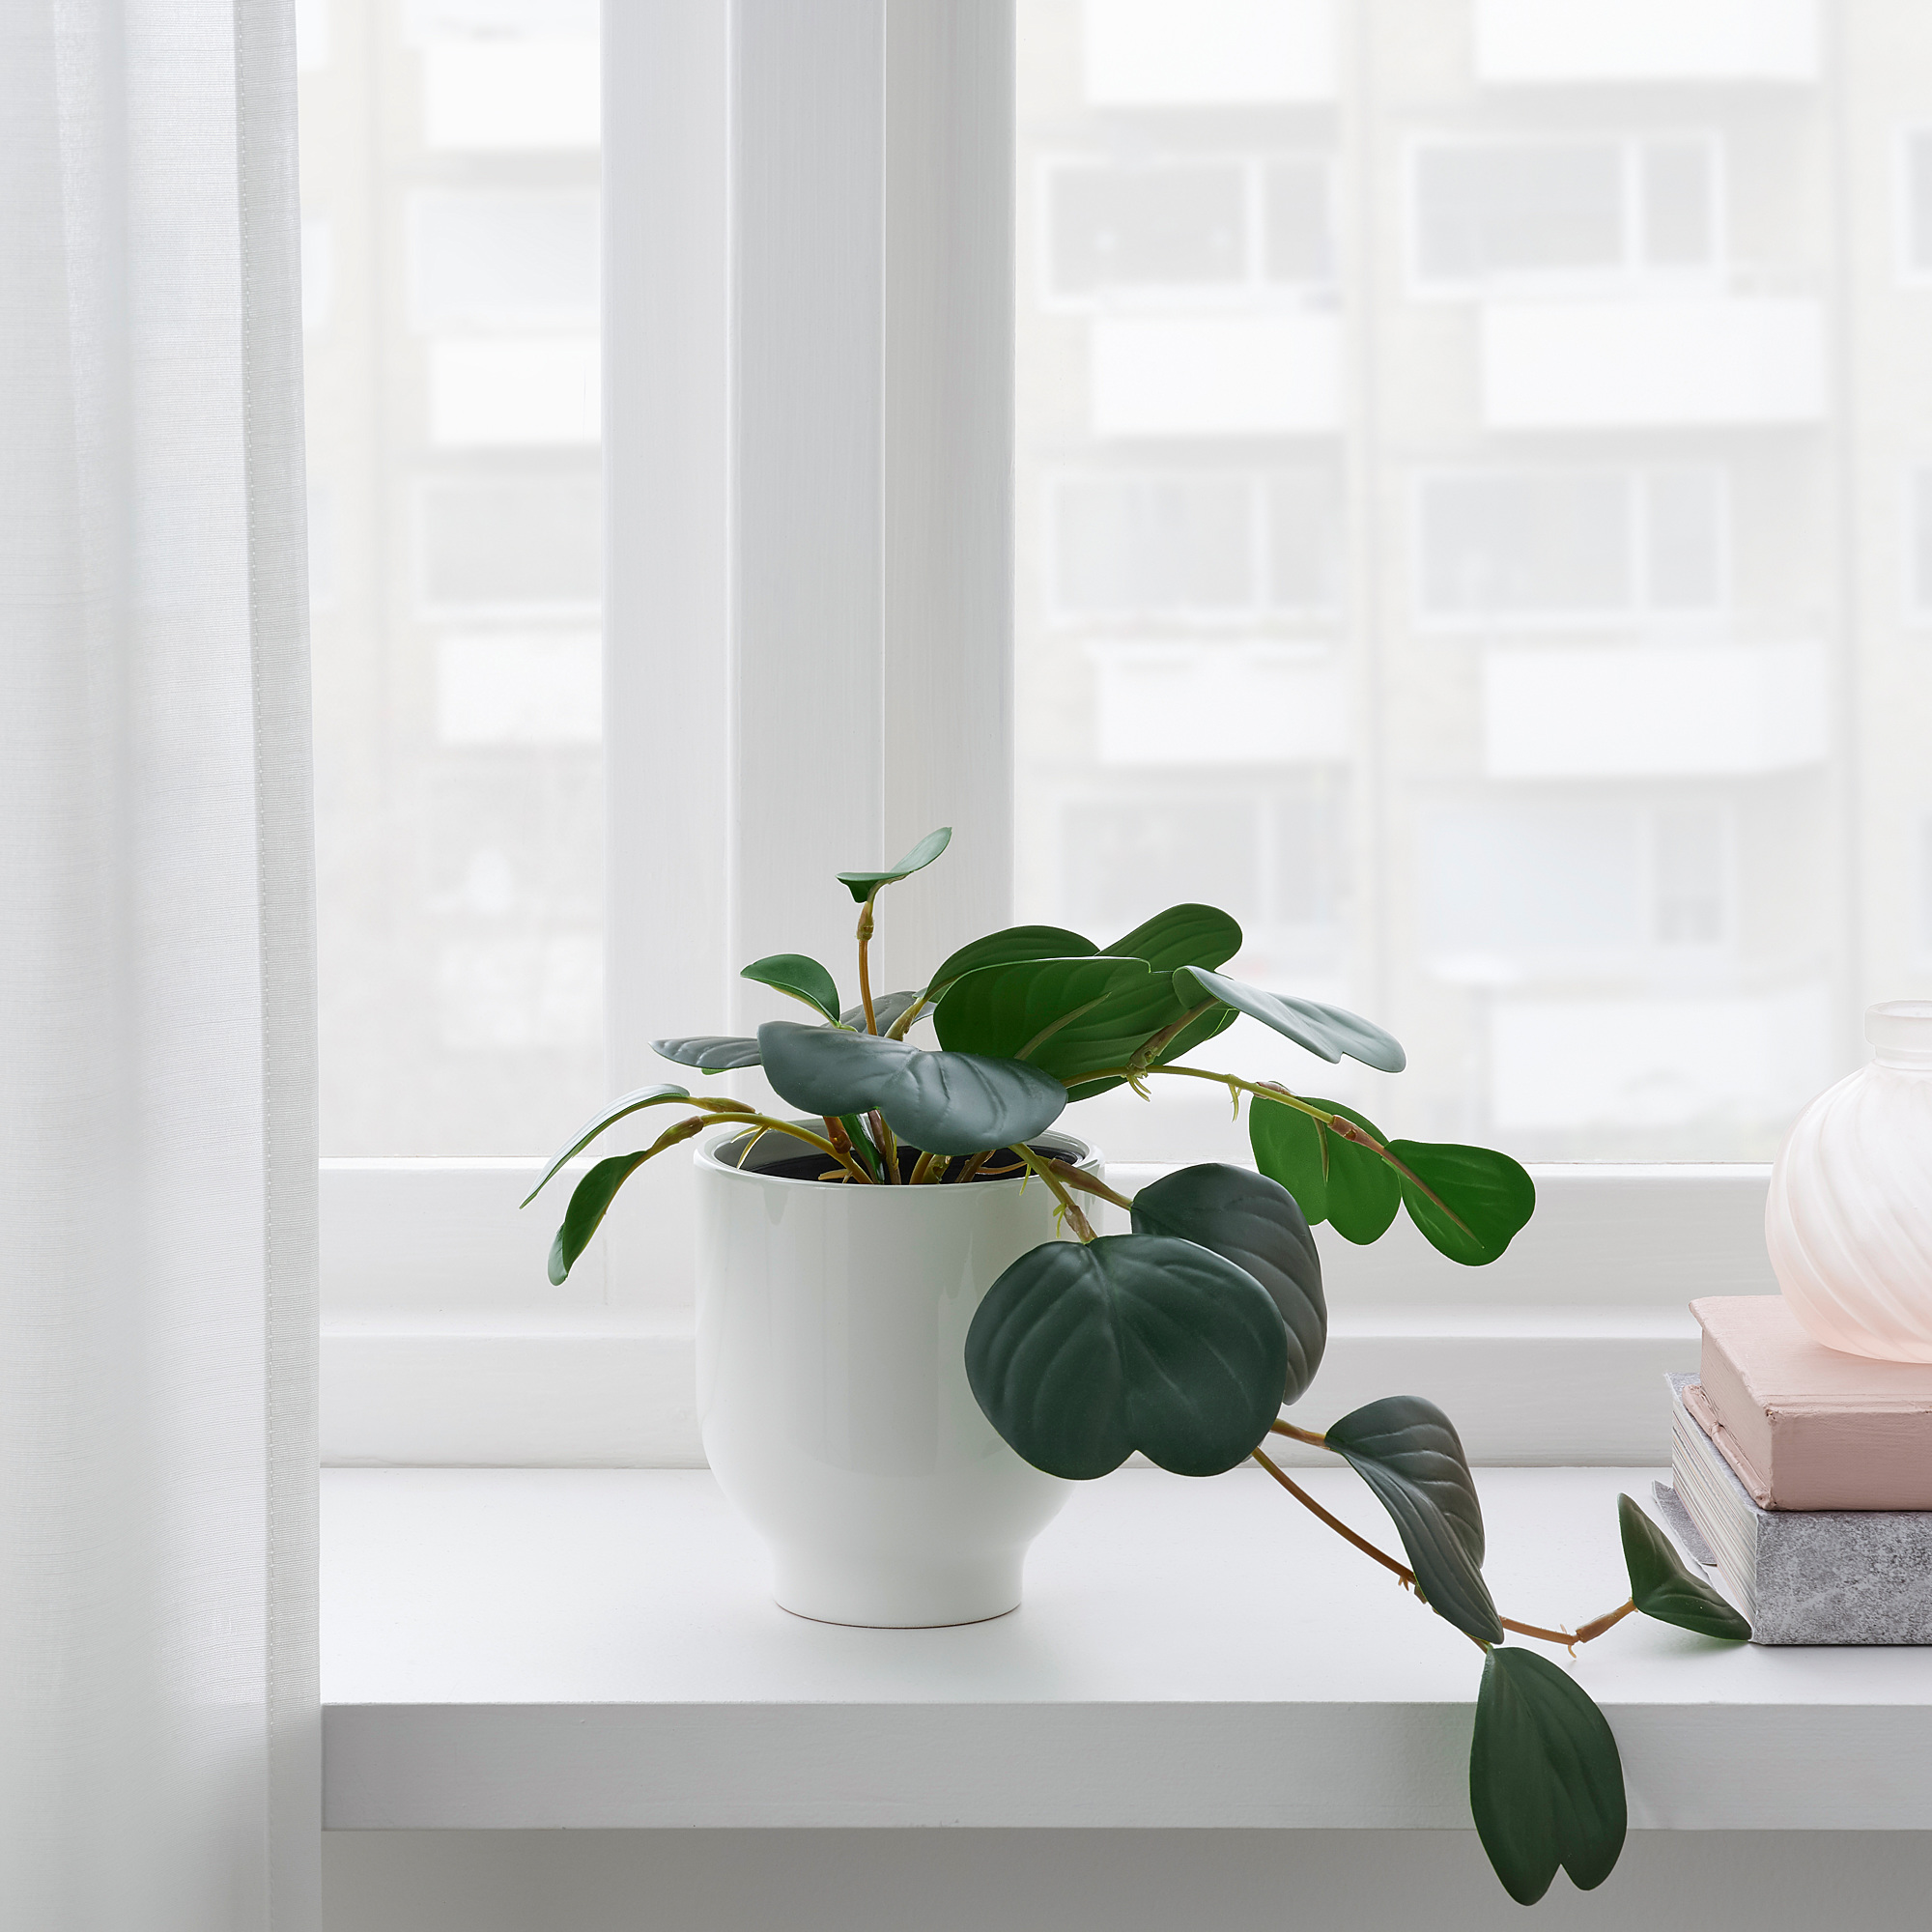buku: (1654, 1288, 1932, 1654)
tanaman: (596, 837, 1474, 1737)
